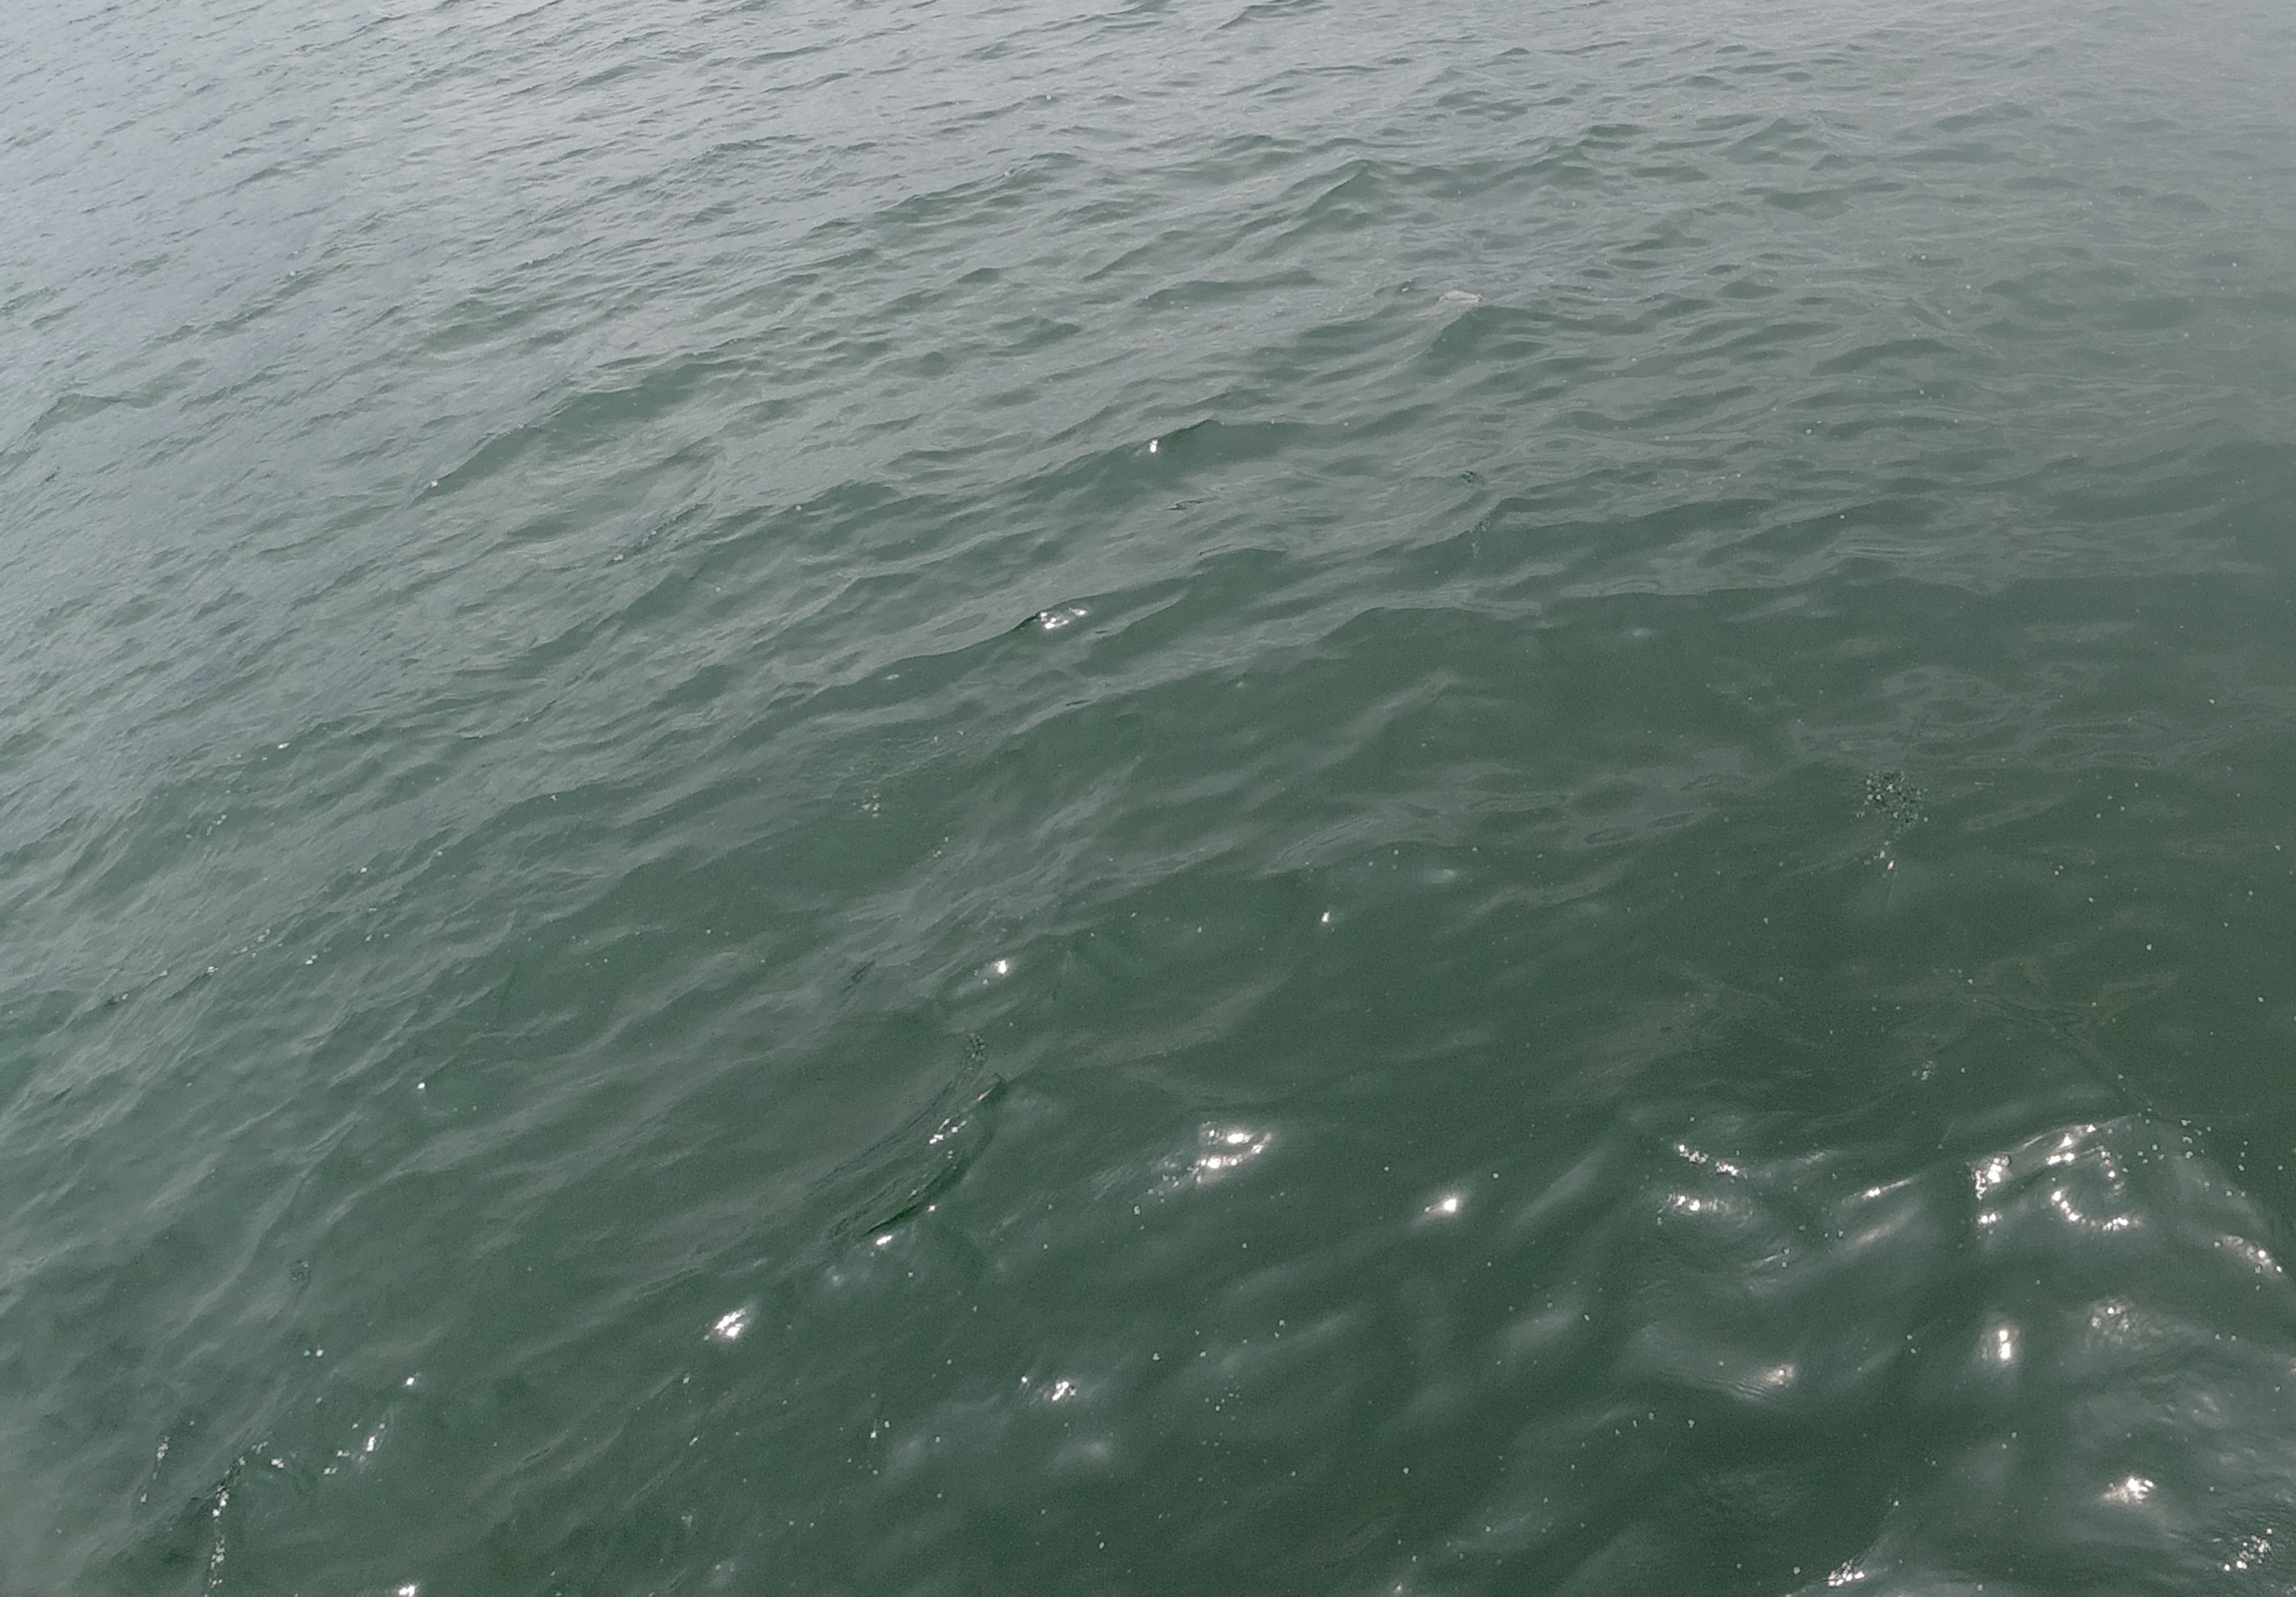plastic: (1410, 281, 1497, 335)
